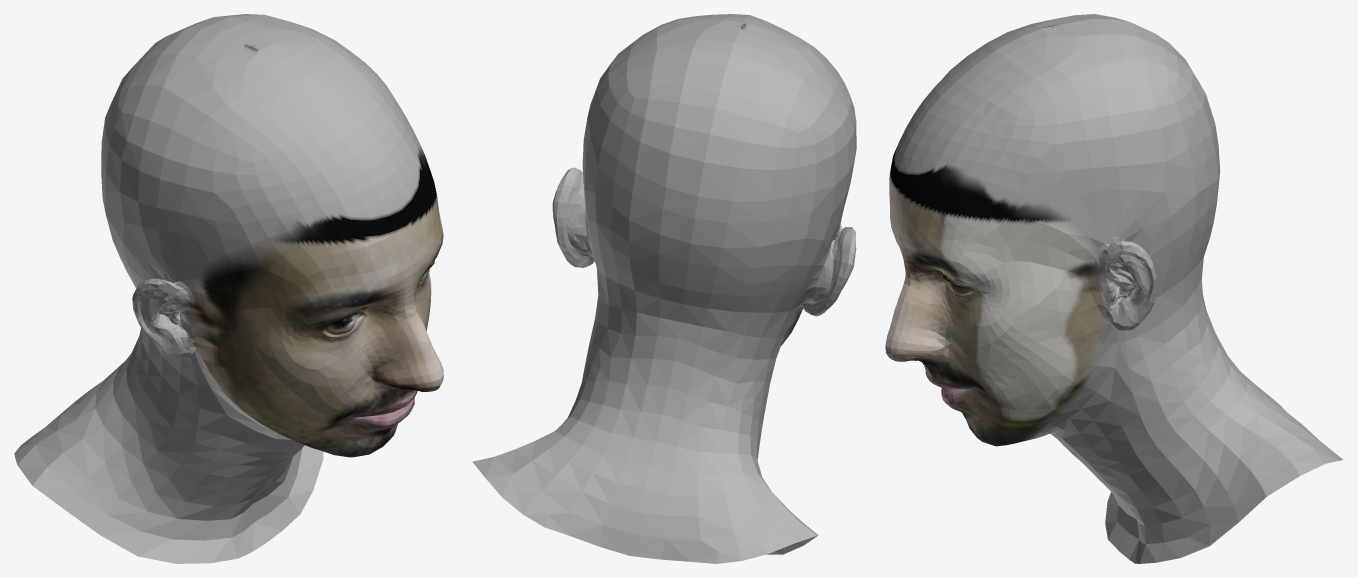
The model's file is ezgif-frame-061.obj.
3 renders of one model, left to right at view 1: azimuth 30°, elevation 25°; view 2: azimuth 150°, elevation 25°; view 3: azimuth 270°, elevation 25°, orthographic. The views are drawn at different scales.
Size of the model in its own units: 0.1982 by 0.3257 by 0.2656.
1 material, 1 textured.
